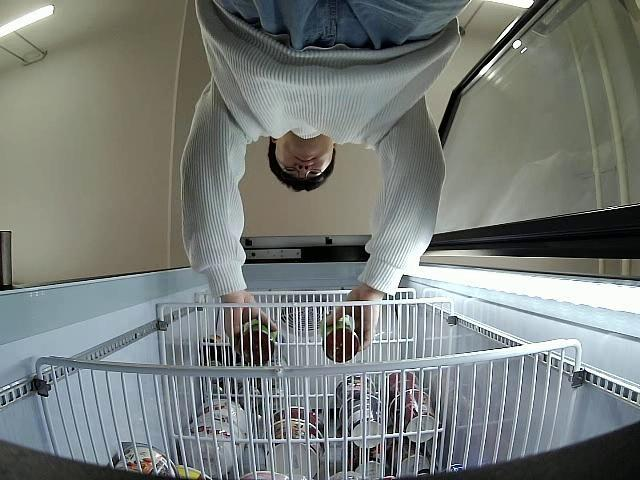19_17cha: (322, 310, 358, 361), (240, 321, 276, 364)
